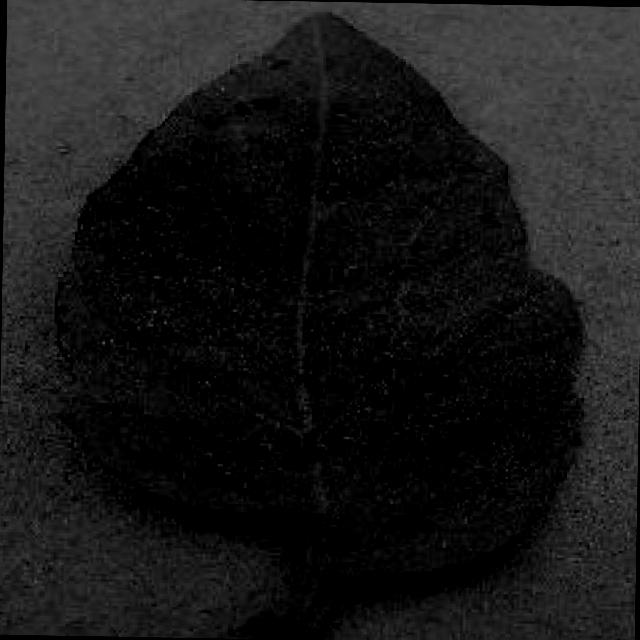bacterial spot: (54, 8, 587, 640)
